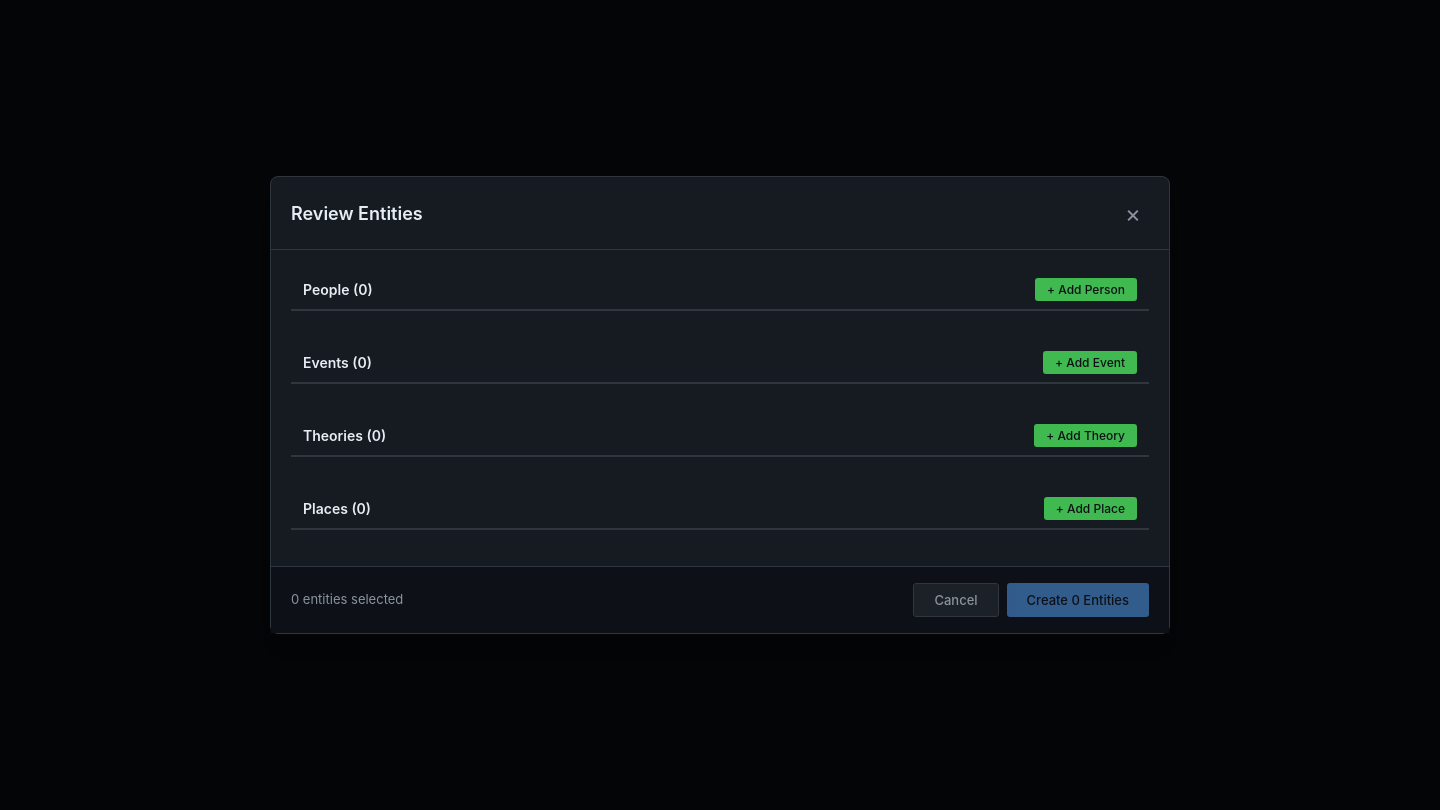
it: EntityReview › Adding Entities › should add a new theory
This screenshot has width=1440, height=810.
Click the button "+ Add Theory" at (1086, 436), box [1034,424,1137,447]
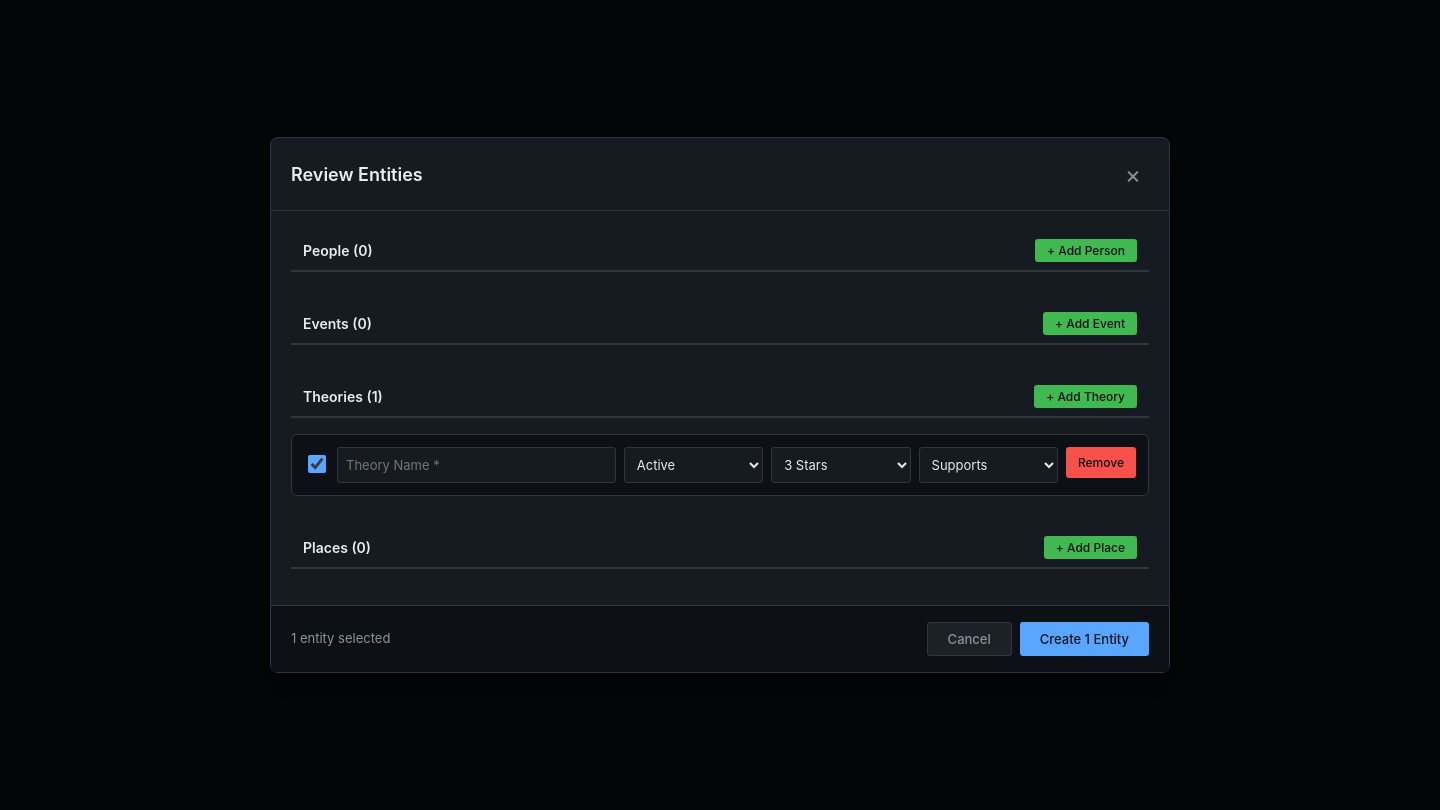
Expected: the field with placeholder "Theory Name *" is shown, [337,447,616,483]
